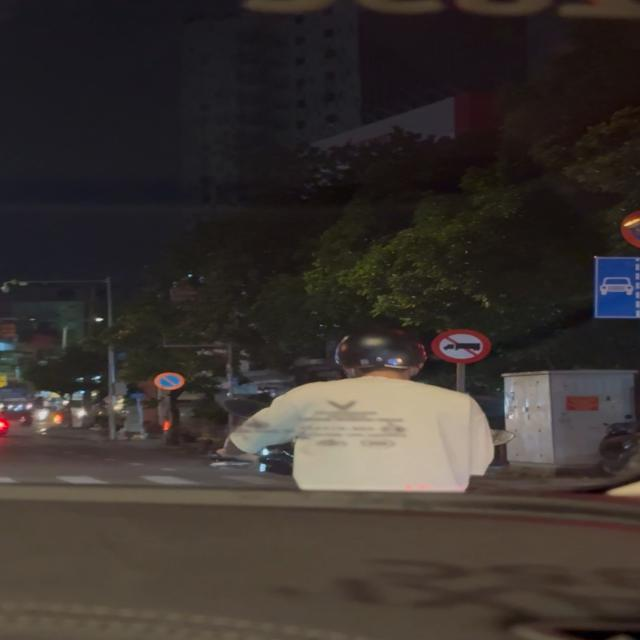Bien bao cam do xe: (152, 370, 186, 390)
Bien bao cam xe so-mi ro-mooc: (428, 328, 497, 363)
